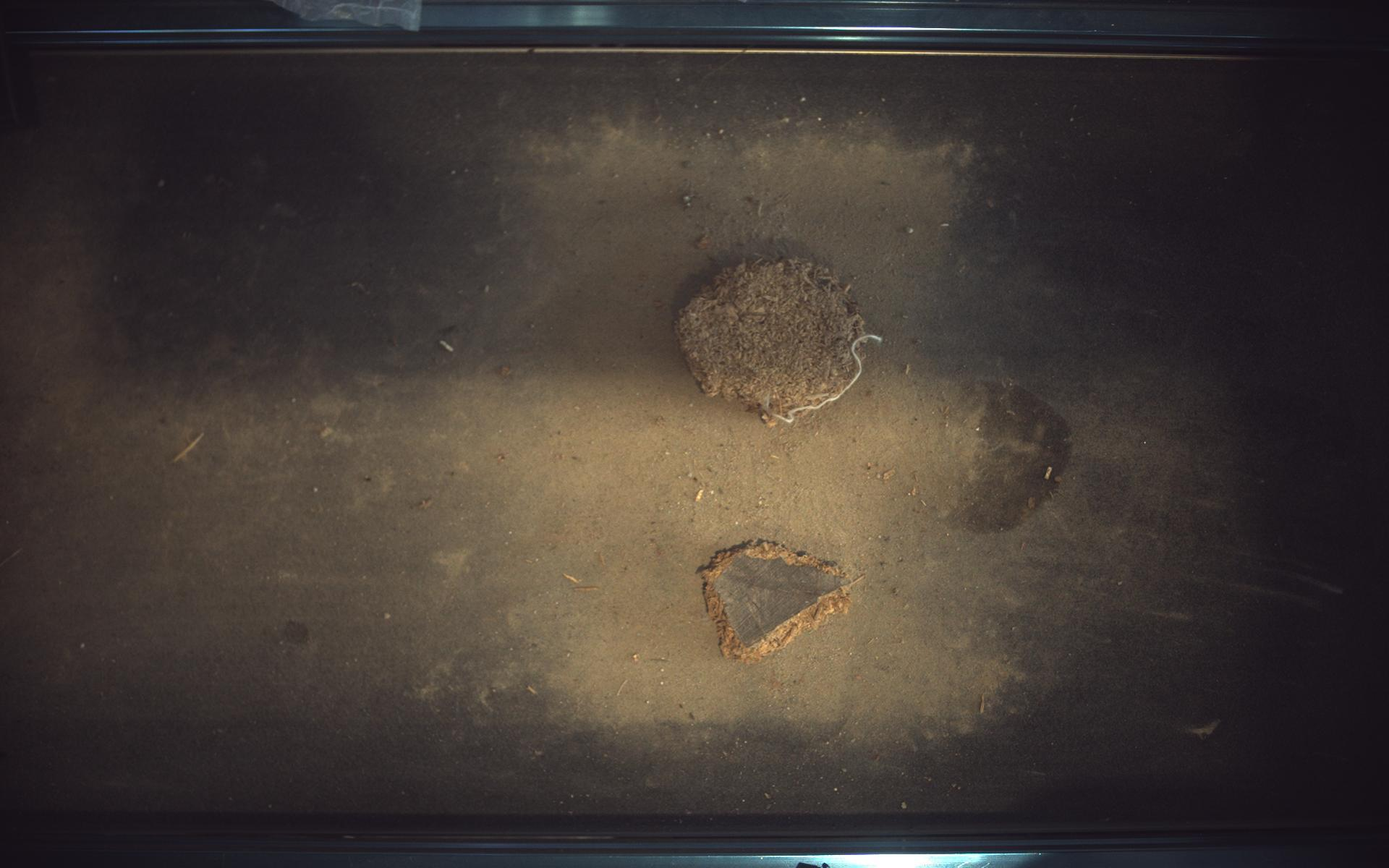wood: (677, 259, 883, 425), (700, 541, 858, 663)
